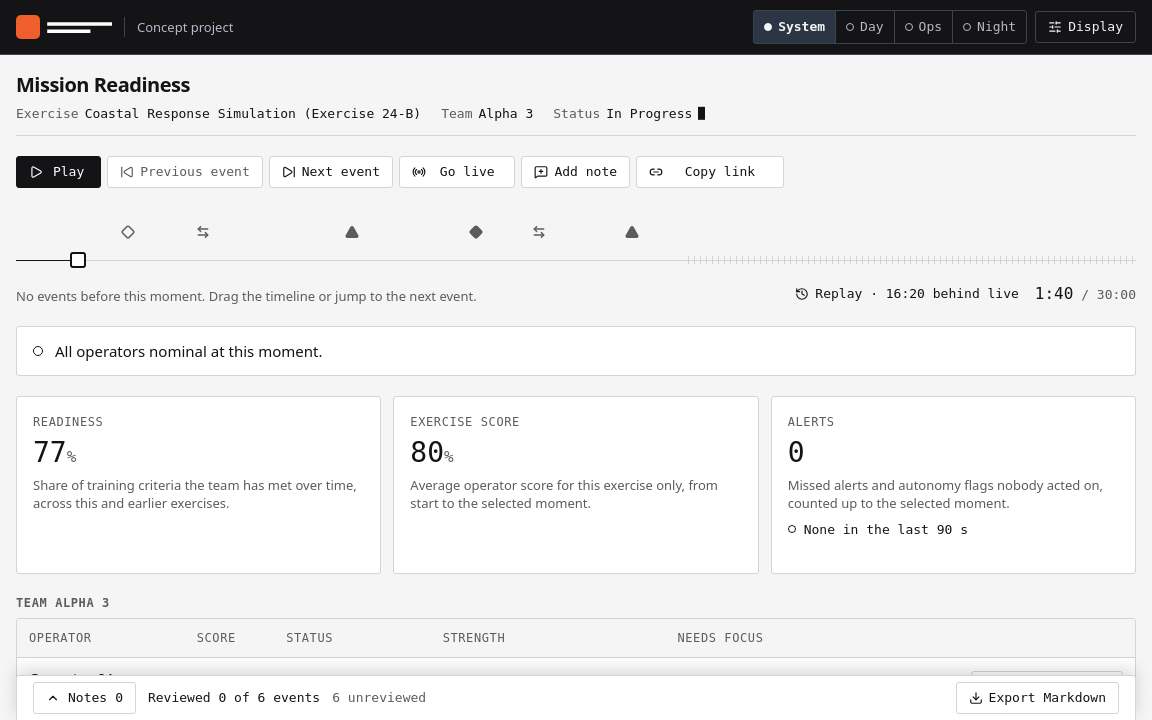
notes sheet › the toolbar's Add note opens the sheet and puts the cursor in the note box
Click the button "Add note": [576, 172] box [522,156,630,188]
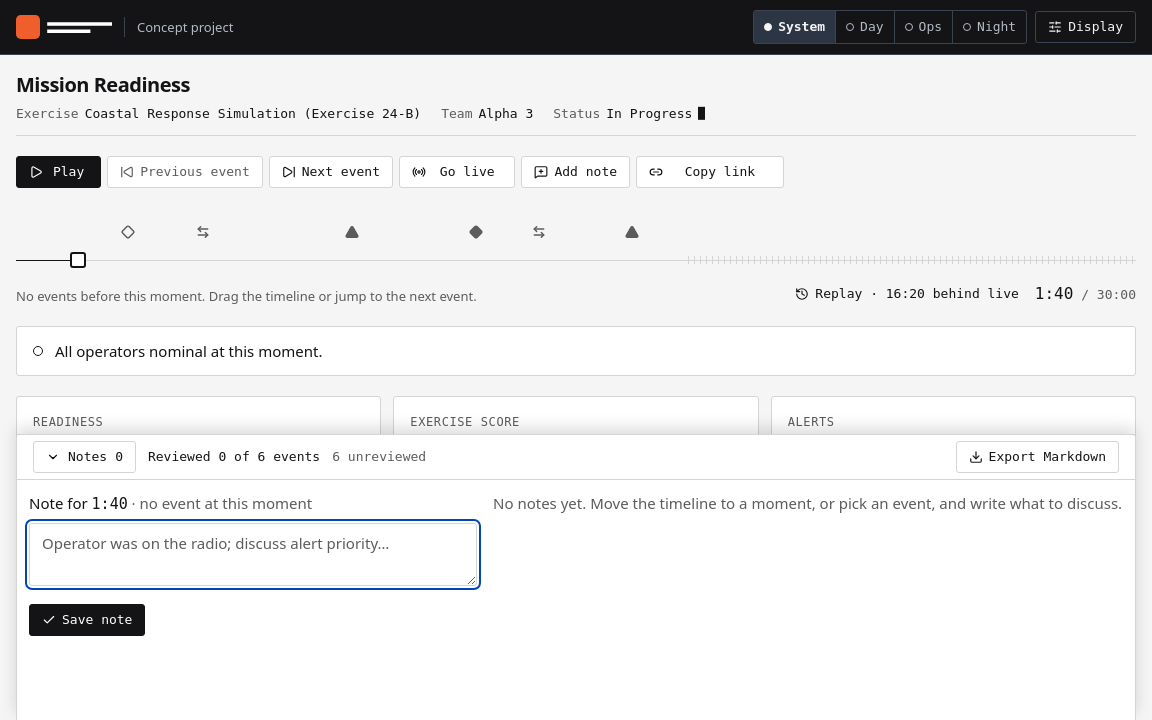
Expected: the button "Notes 0" is expanded, [33,441,136,473]
